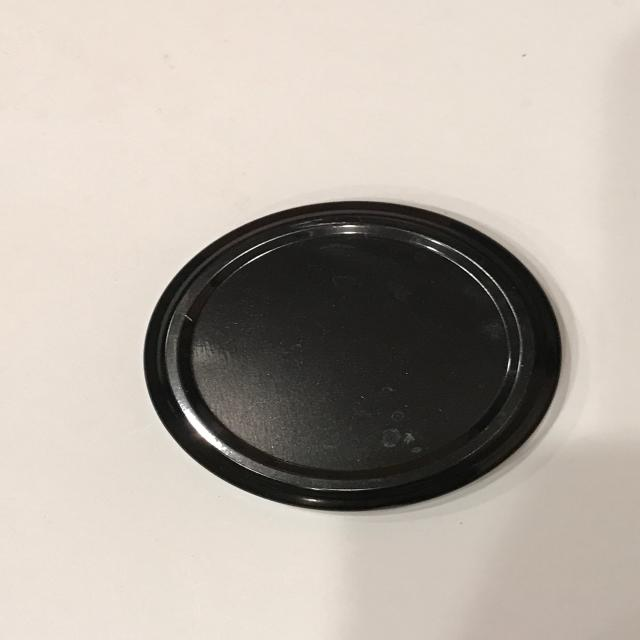metal: (142, 198, 565, 513)
